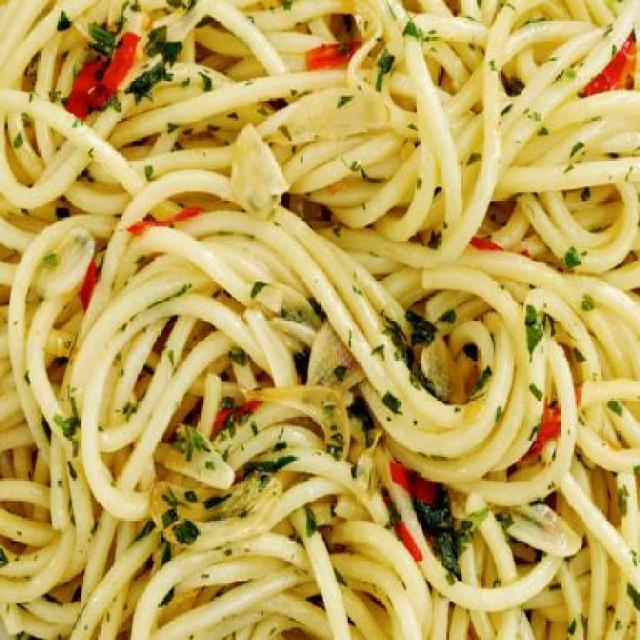Oil pasta: (16, 28, 639, 640)
